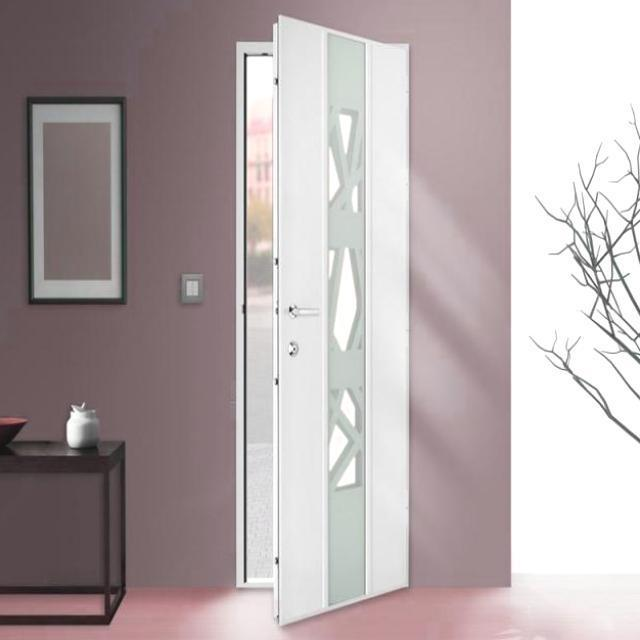door: (271, 13, 411, 625)
